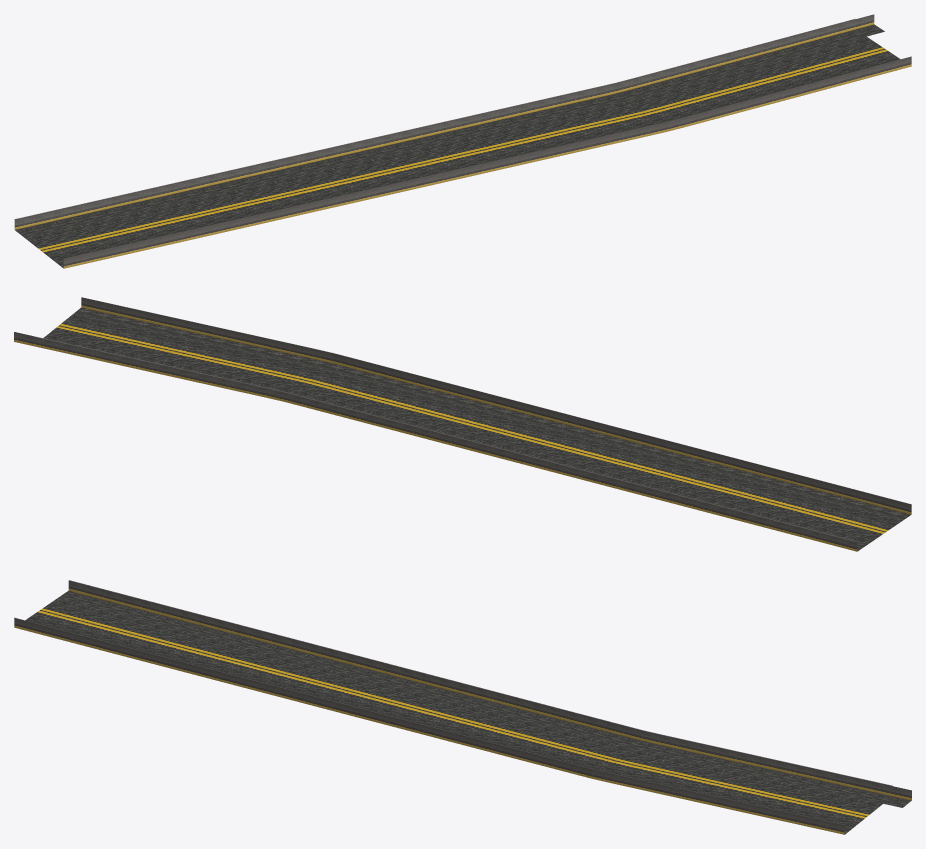
The model's file is road_block_08.obj.
3 renders of one model, top to bottom at view 1: azimuth 30°, elevation 25°; view 2: azimuth 150°, elevation 25°; view 3: azimuth 330°, elevation 25°, orthographic.
Visible parts, largest first — view 1: Road_display.008_Cube.012; view 2: Road_display.008_Cube.012; view 3: Road_display.008_Cube.012.
Part boxes in pixels (x1=…): Road_display.008_Cube.012: x1=14, y1=14, x2=911, y2=268; Road_display.008_Cube.012: x1=14, y1=297, x2=911, y2=551; Road_display.008_Cube.012: x1=14, y1=580, x2=911, y2=834.
Bounding box in the file's own units: 139 × 1.57 × 17.83.
Materials: 1 (1 with a texture image).
